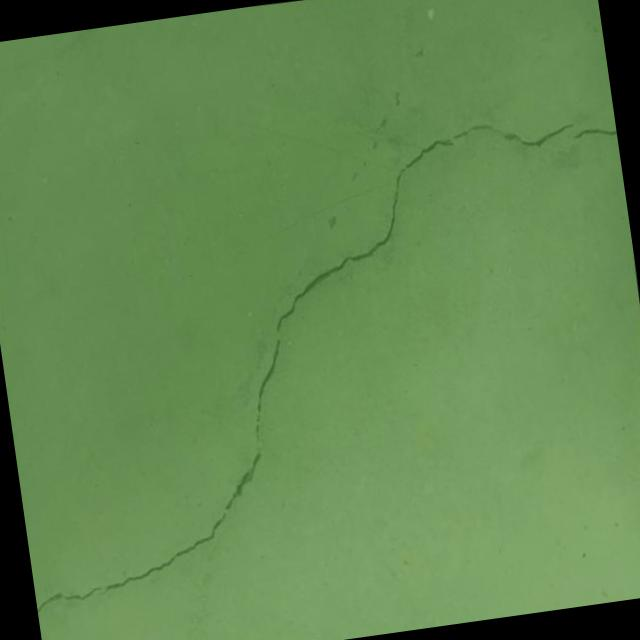crack: (0, 95, 640, 630)
